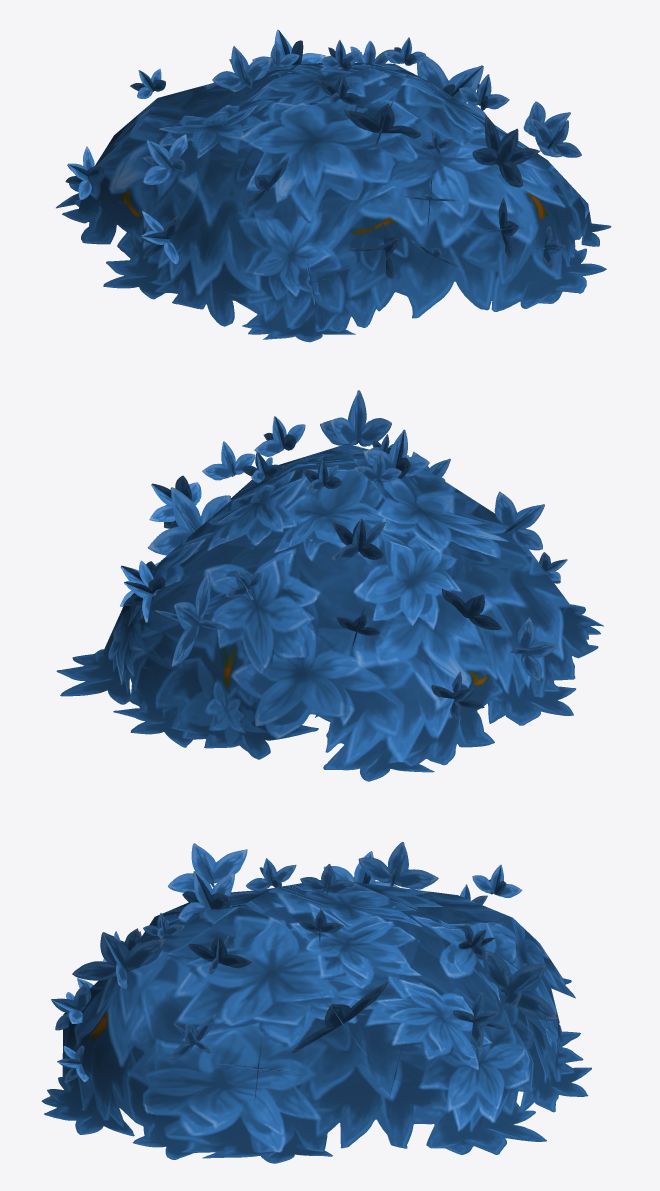
File: 1_Arbusto_Azul.fbx
3 renders of one model, top to bottom at view 1: azimuth 30°, elevation 25°; view 2: azimuth 150°, elevation 25°; view 3: azimuth 270°, elevation 25°, orthographic. The views are drawn at different scales.
Parts seen in each view (by area): view 1: 1_Arbusto_Azul; view 2: 1_Arbusto_Azul; view 3: 1_Arbusto_Azul.
Boxes of the visible parts, left/top/right/bottom form: 1_Arbusto_Azul: left=56, top=30, right=611, bottom=342; 1_Arbusto_Azul: left=56, top=390, right=603, bottom=781; 1_Arbusto_Azul: left=41, top=842, right=591, bottom=1163.
Size of the model in its own units: 451 by 175 by 476.
